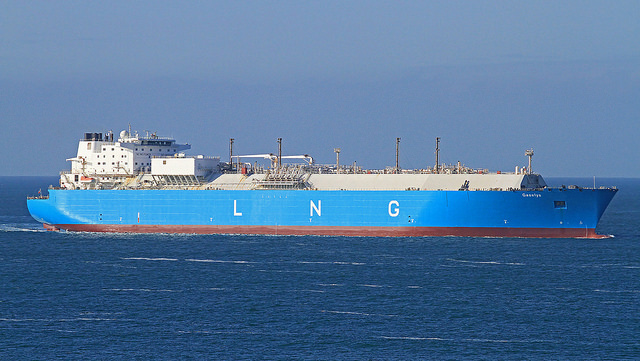LNG_ship: (22, 131, 621, 239)
